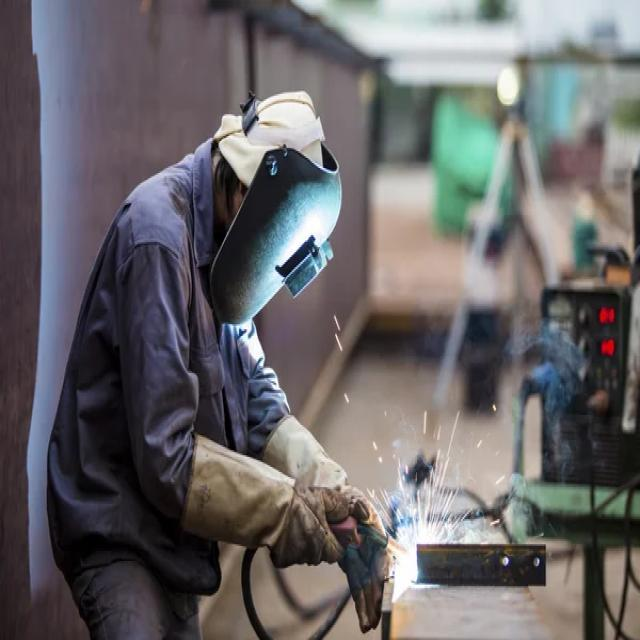with_helmet: (211, 145, 341, 323), (211, 146, 340, 323)
